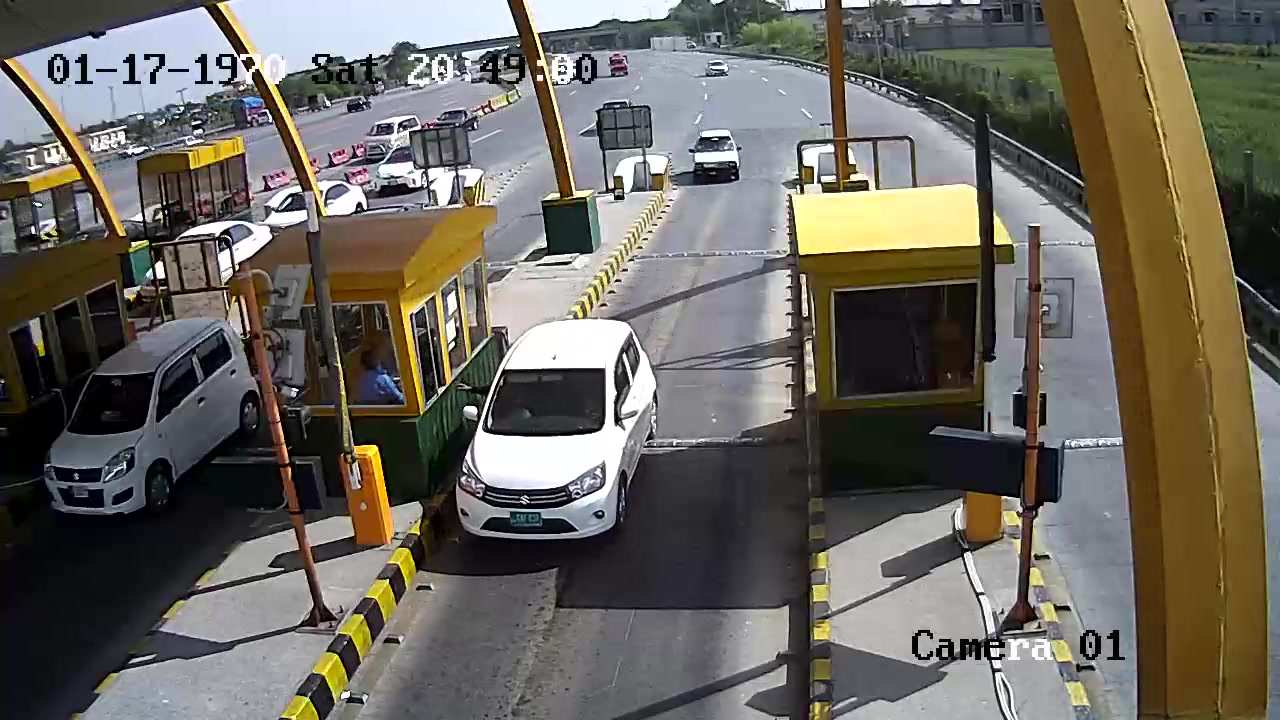F1: (446, 315, 663, 553)
